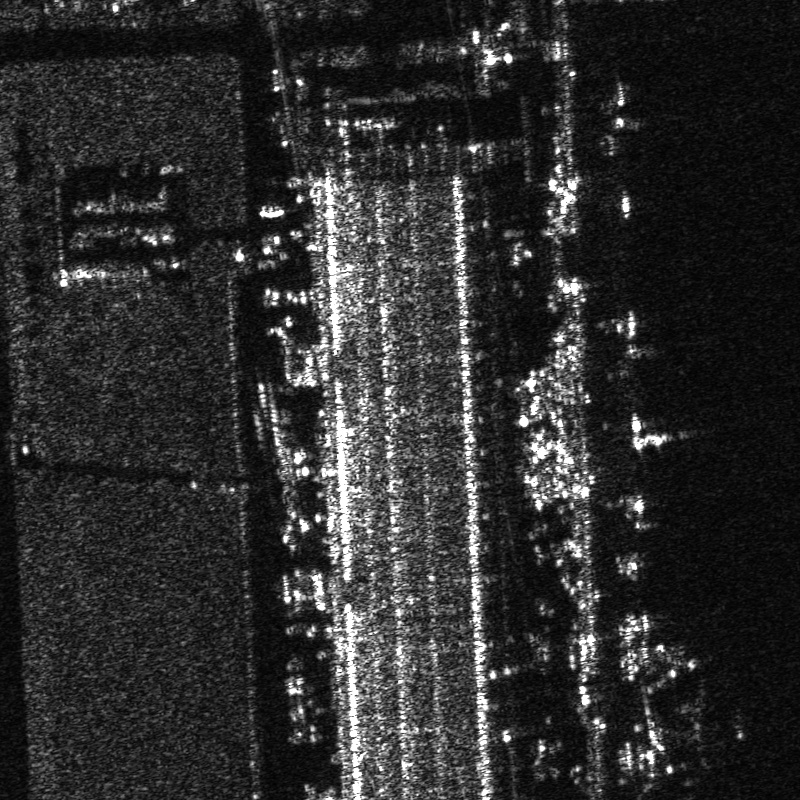A220: (645, 686, 752, 773)
